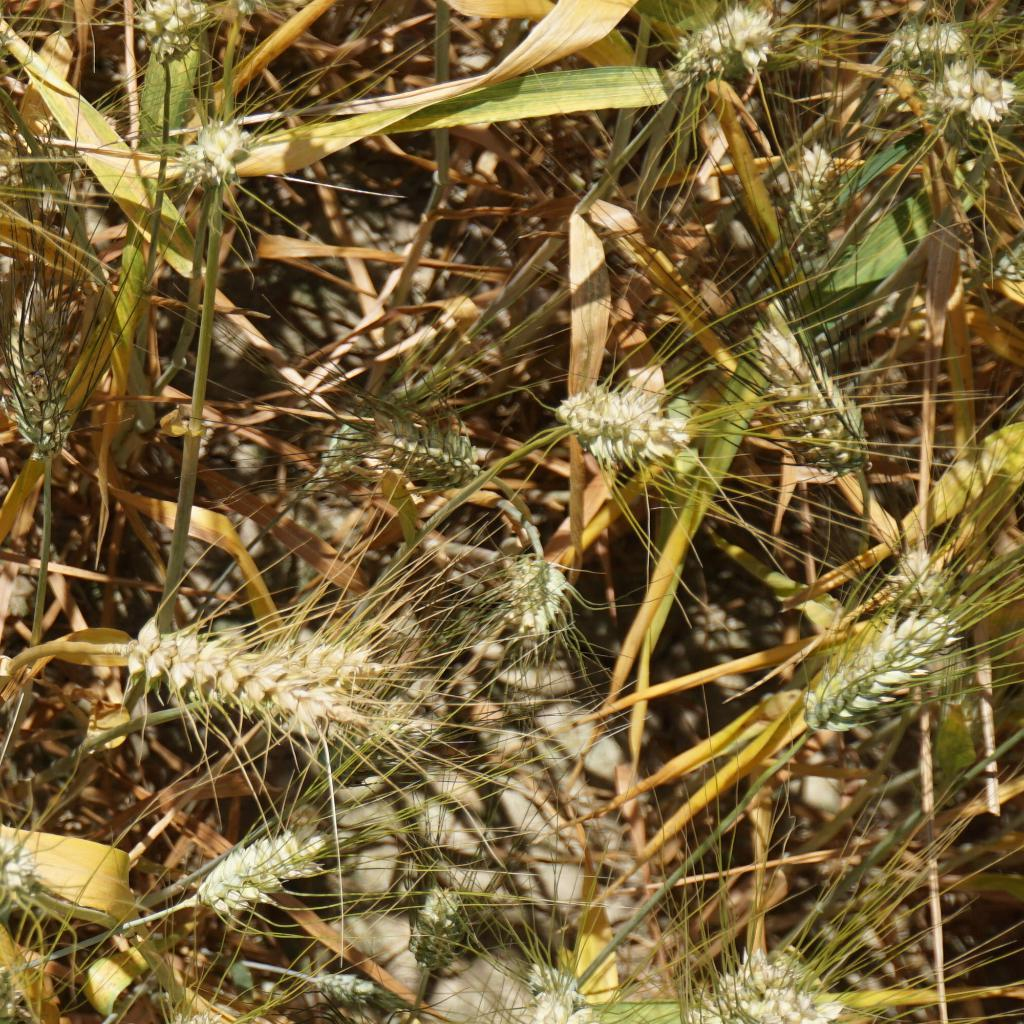0-0: (0, 266, 101, 478), (115, 624, 299, 726), (758, 336, 877, 481), (305, 689, 451, 801), (0, 104, 130, 216), (792, 638, 931, 737), (190, 828, 328, 926), (564, 376, 691, 467), (245, 617, 381, 694), (662, 5, 773, 92), (500, 543, 578, 640), (0, 816, 55, 937), (396, 878, 468, 962), (695, 967, 801, 1024), (941, 64, 1018, 137), (314, 960, 391, 1024), (786, 141, 841, 227), (395, 425, 476, 480), (891, 549, 947, 624), (883, 15, 971, 59), (182, 126, 250, 181), (146, 0, 202, 66), (315, 412, 366, 476), (741, 995, 845, 1024), (519, 955, 579, 1001), (528, 992, 608, 1024), (0, 951, 19, 1024), (166, 1008, 235, 1024)
